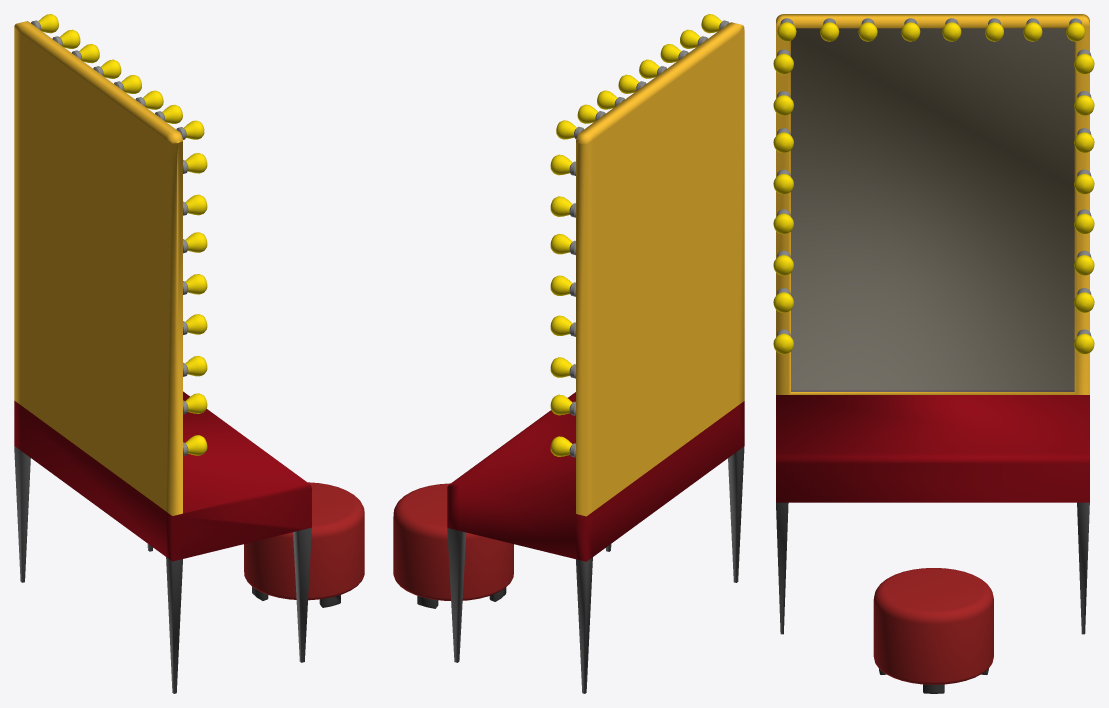
The model's file is LightDesk(Ver4).fbx.
The picture shows the model from 3 angles, left to right: view 1: azimuth 30°, elevation 25°; view 2: azimuth 150°, elevation 25°; view 3: azimuth 270°, elevation 25°; orthographic projection.
Parts seen in each view (by area): view 1: Desk; view 2: Desk; view 3: Desk.
Boxes of the visible parts, box(x1,y1,x2,y2) form: Desk: box(14, 14, 364, 693); Desk: box(393, 14, 744, 693); Desk: box(773, 14, 1094, 693).
Size of the model in its own units: 378 by 773 by 402.
